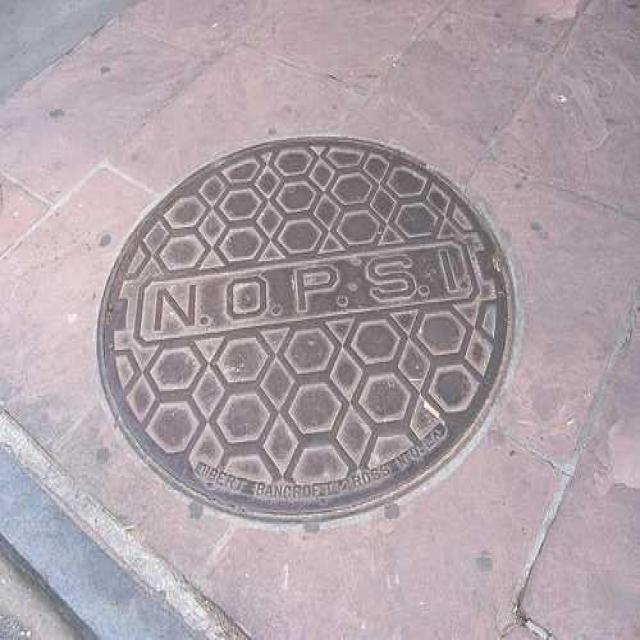manhole: (98, 137, 515, 519)
